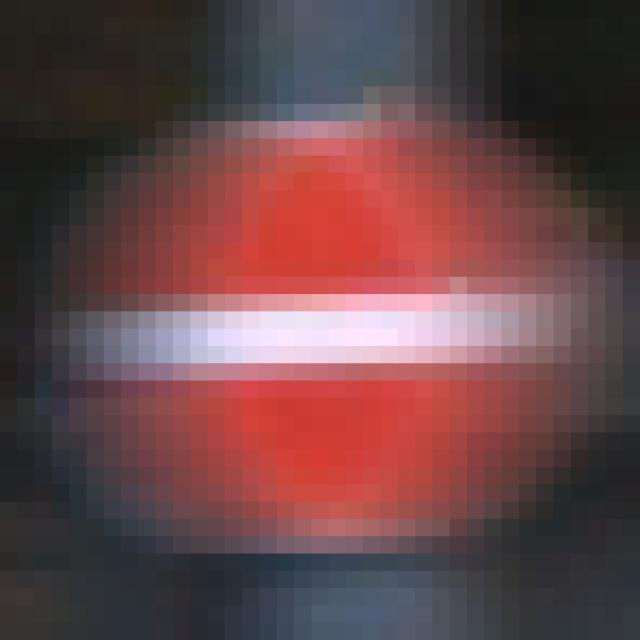No Entry: (105, 88, 554, 555)
